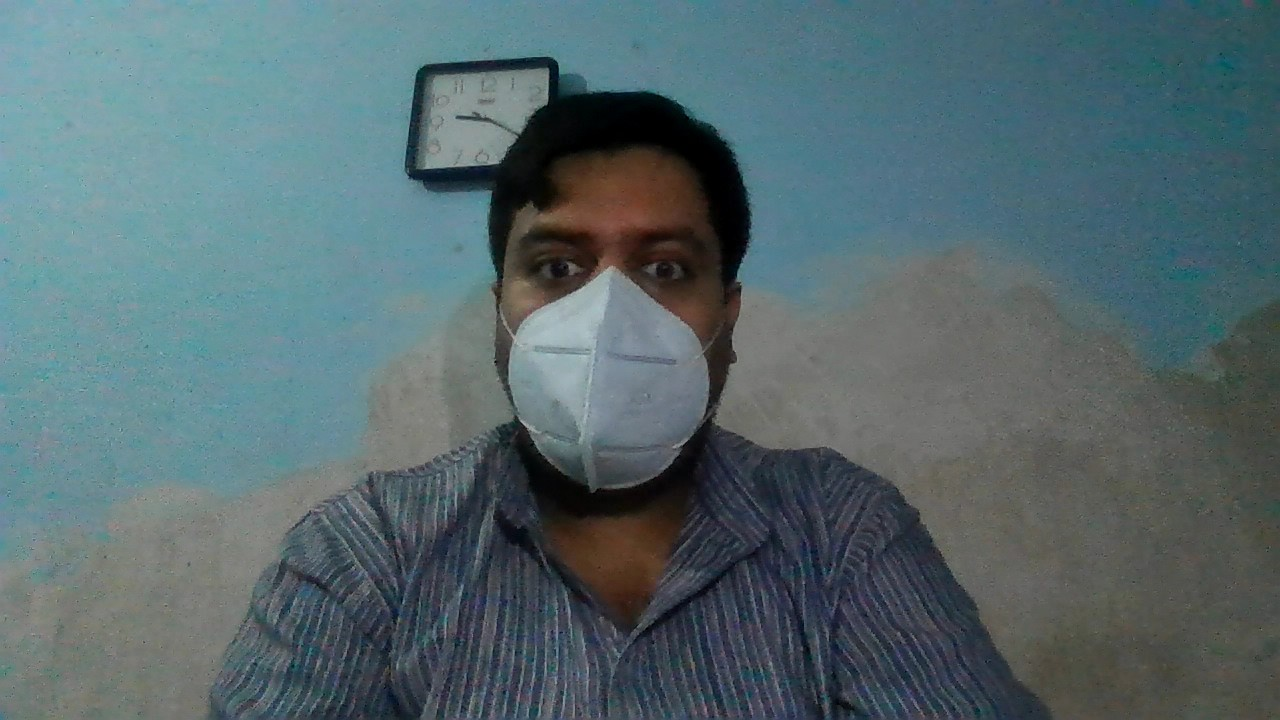Mask: (488, 277, 744, 487)
